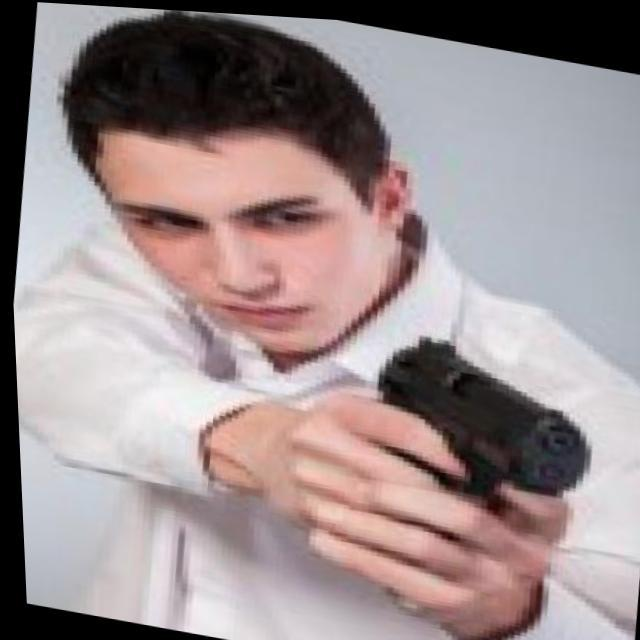weapon: (320, 309, 623, 640)
